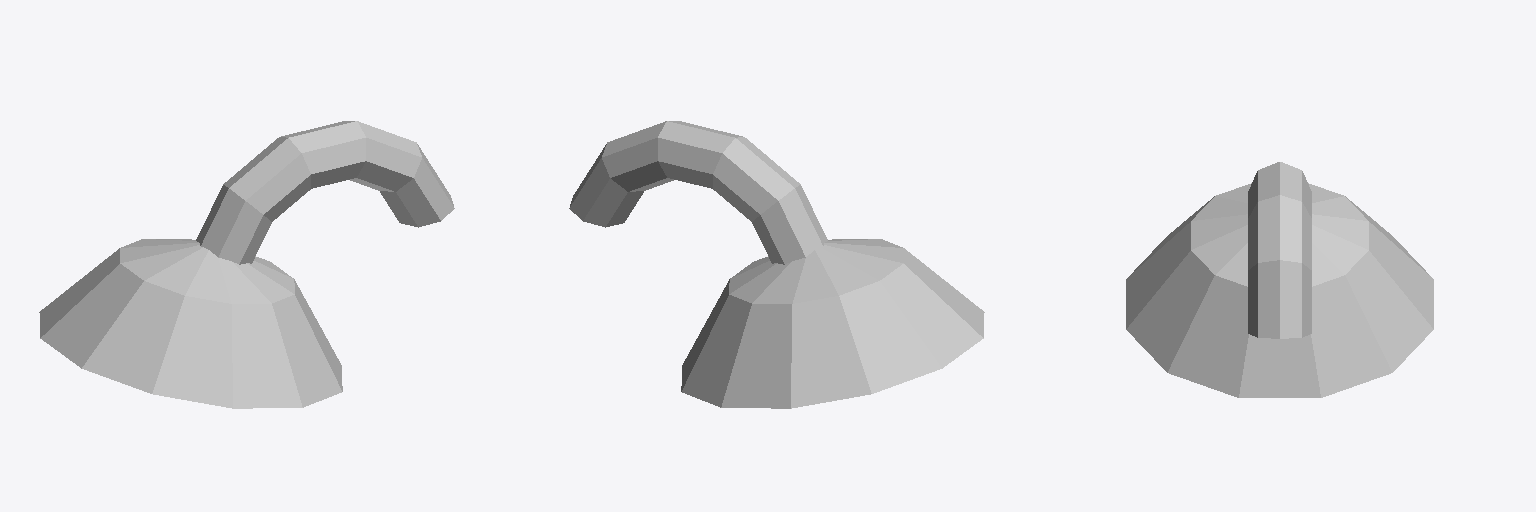
File: basicLamp.obj
3 views of the same model, side by side, from view 1: azimuth 30°, elevation 25°; view 2: azimuth 150°, elevation 25°; view 3: azimuth 270°, elevation 25° (orthographic).
Parts seen in each view (by area): view 1: Basic Lamp; view 2: Basic Lamp; view 3: Basic Lamp.
Boxes of the visible parts, x1=… form: Basic Lamp: x1=39, y1=121, x2=454, y2=408; Basic Lamp: x1=569, y1=121, x2=984, y2=408; Basic Lamp: x1=1126, y1=162, x2=1433, y2=397.
Bounding box in the file's own units: 0.9505 × 0.5137 × 0.6495.